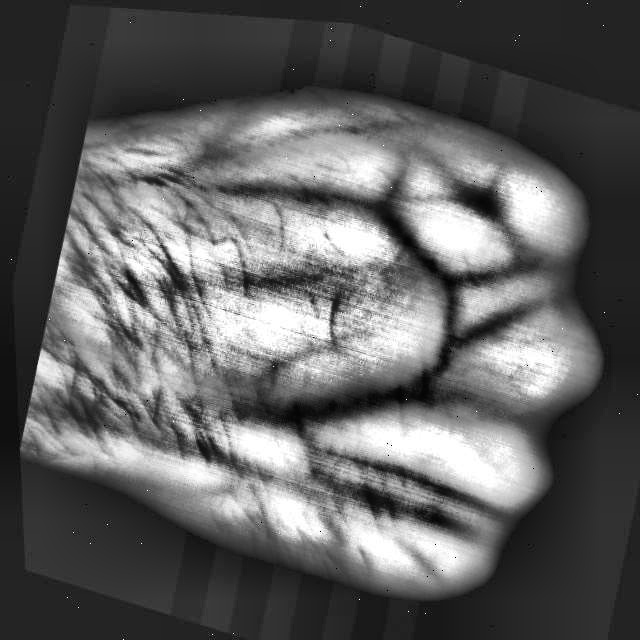Vein: (173, 377, 395, 435)
